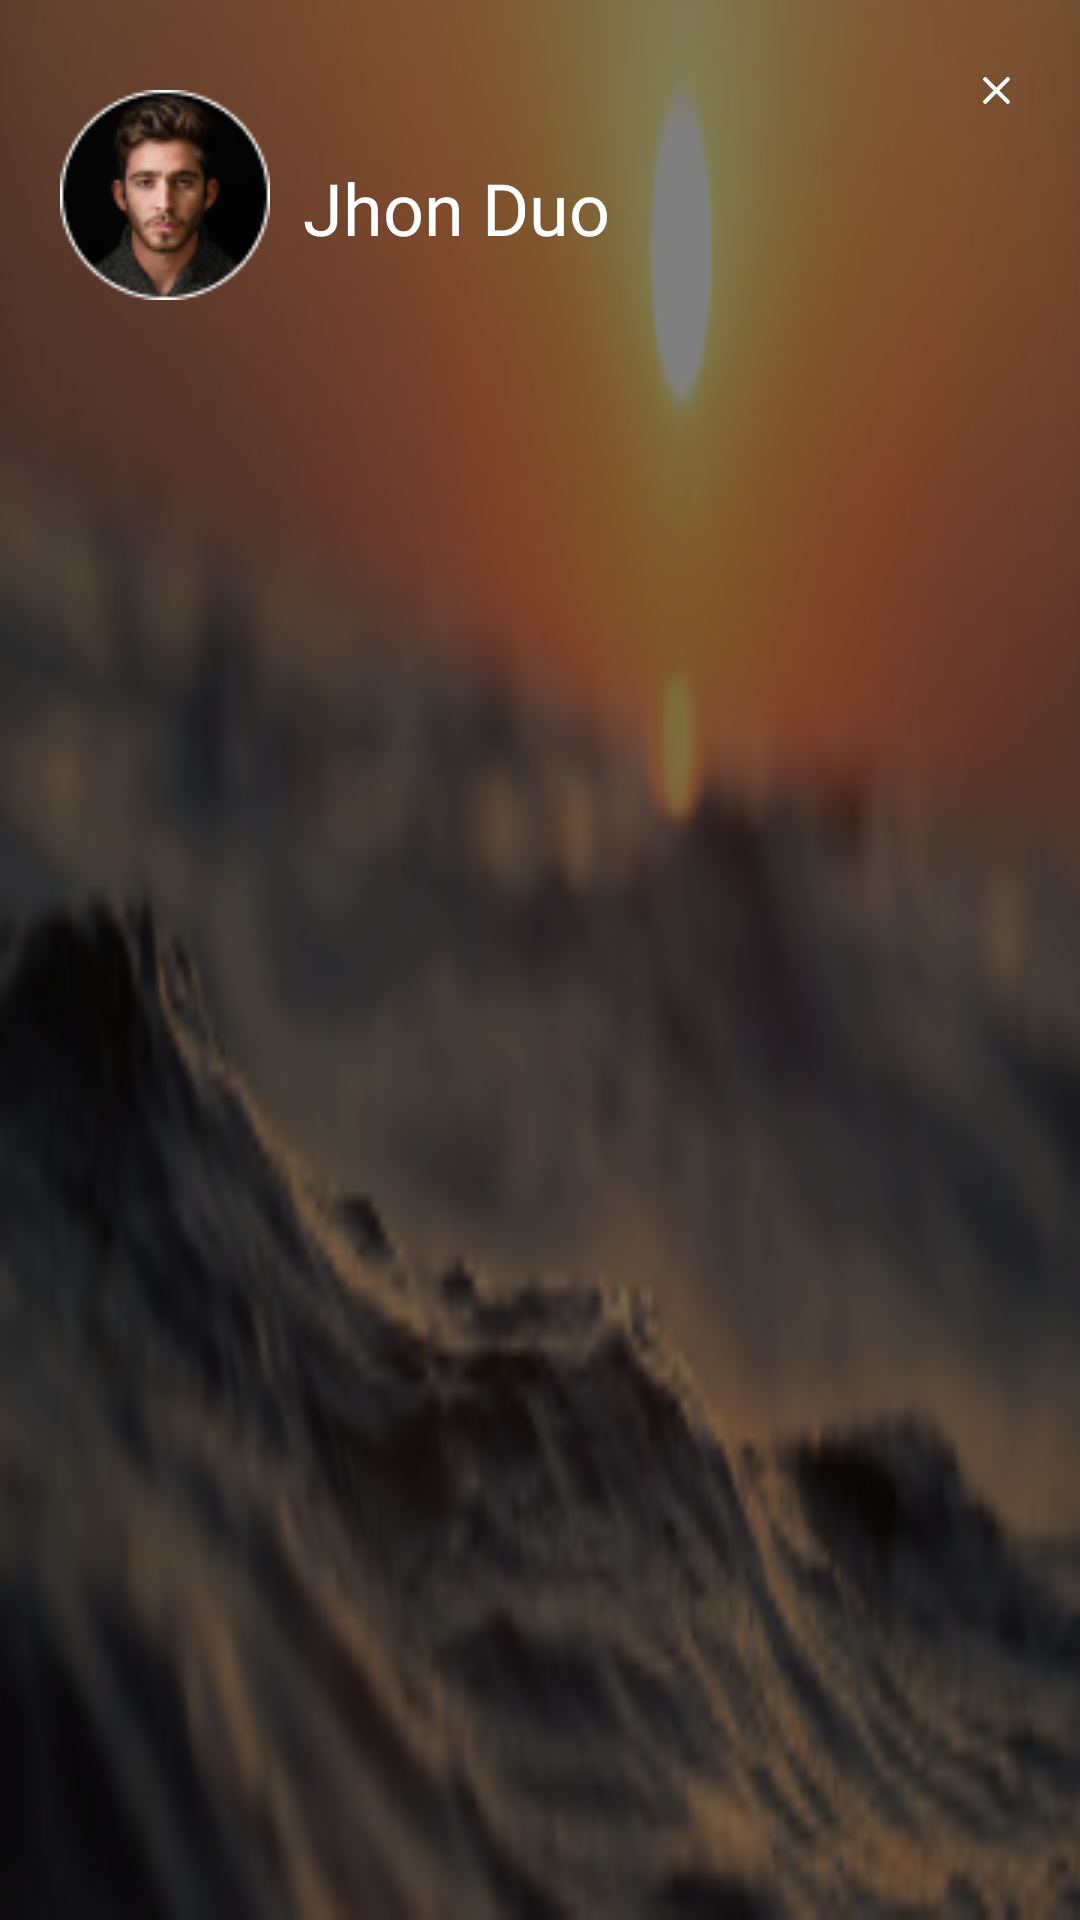

Named icons in this screenshot (1080px×1920px) and their centers, [x,y]:
cross: [996,90]
photo: [165,195]
